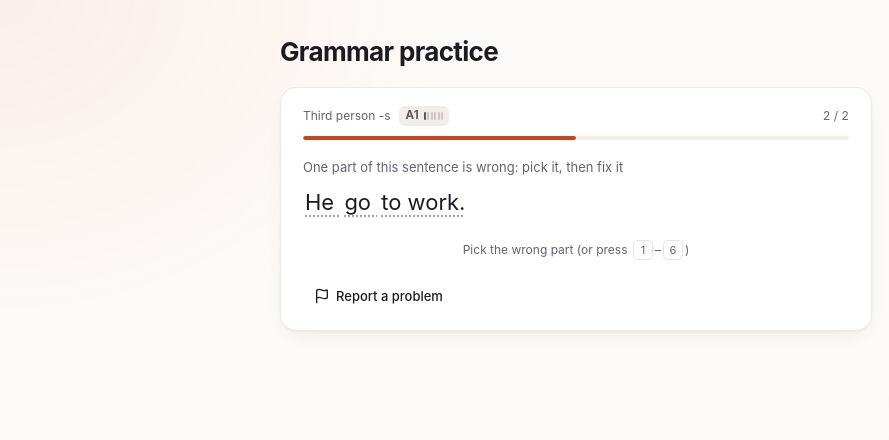
PracticeApp › finds the wrong piece, then fixes it keeping its spacing
Click the button with aria-label "Part 2: go": (361, 202) [342,185,379,220]
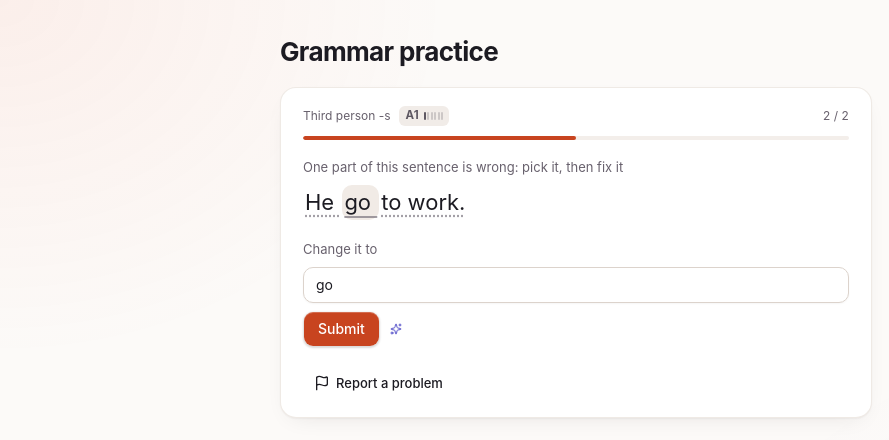
Now the field labelled "Change it to" holds "go"
Replace the text in the field labelled "Change it to" with "goes": (576, 285) [303,267,849,303]
Then press Enter
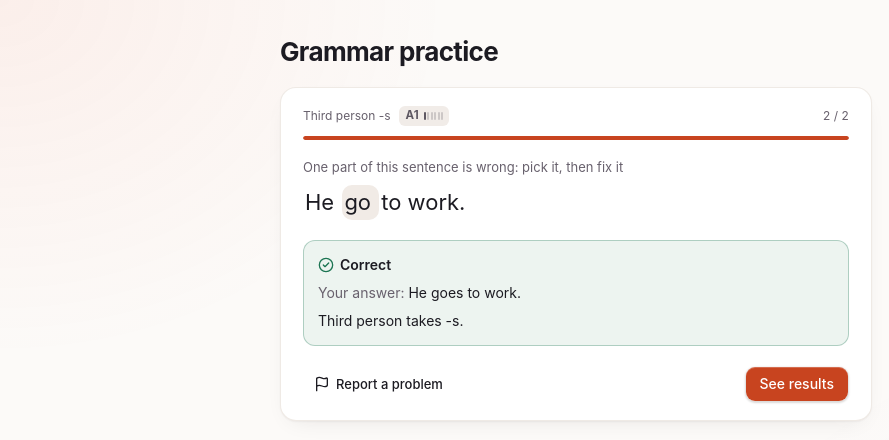
Now the element with test id "practice-verdict" shows "Correct", box [340,256,391,273]
